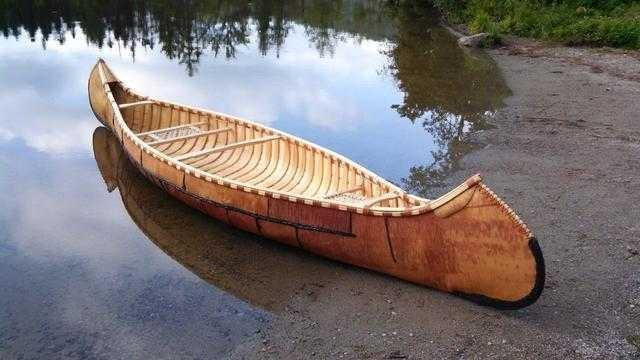kayak: (88, 60, 546, 313)
